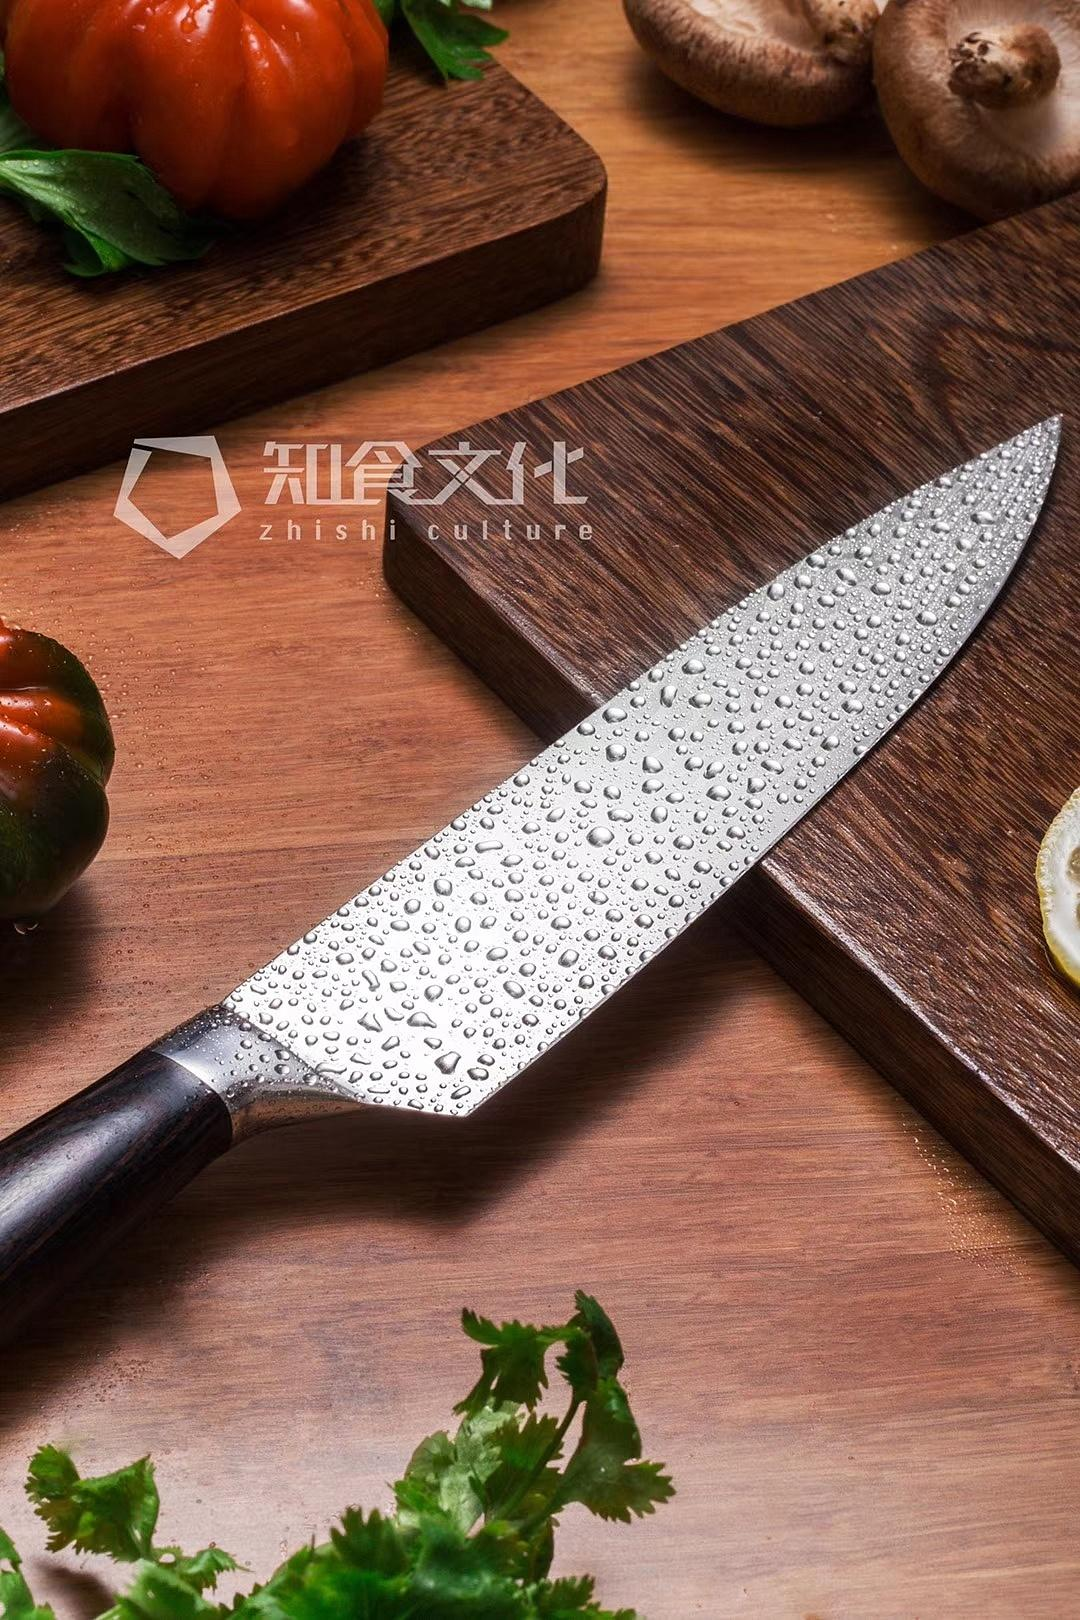knife: (13, 245, 1076, 1407)
